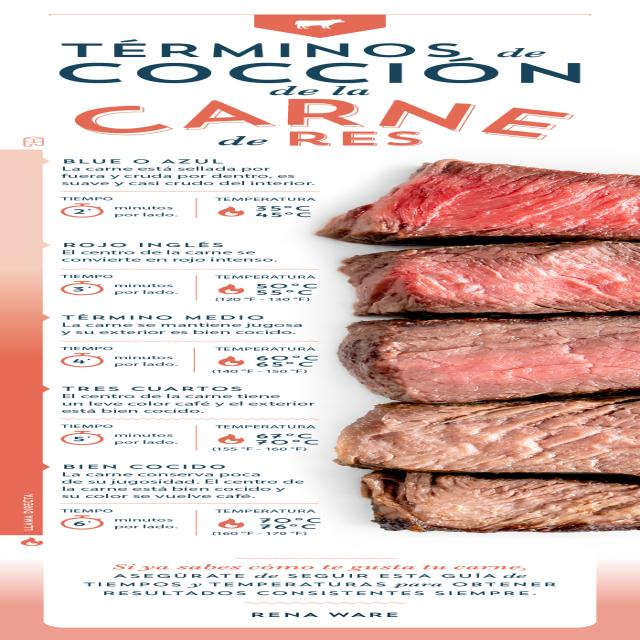carne de res: (325, 158, 626, 536)
